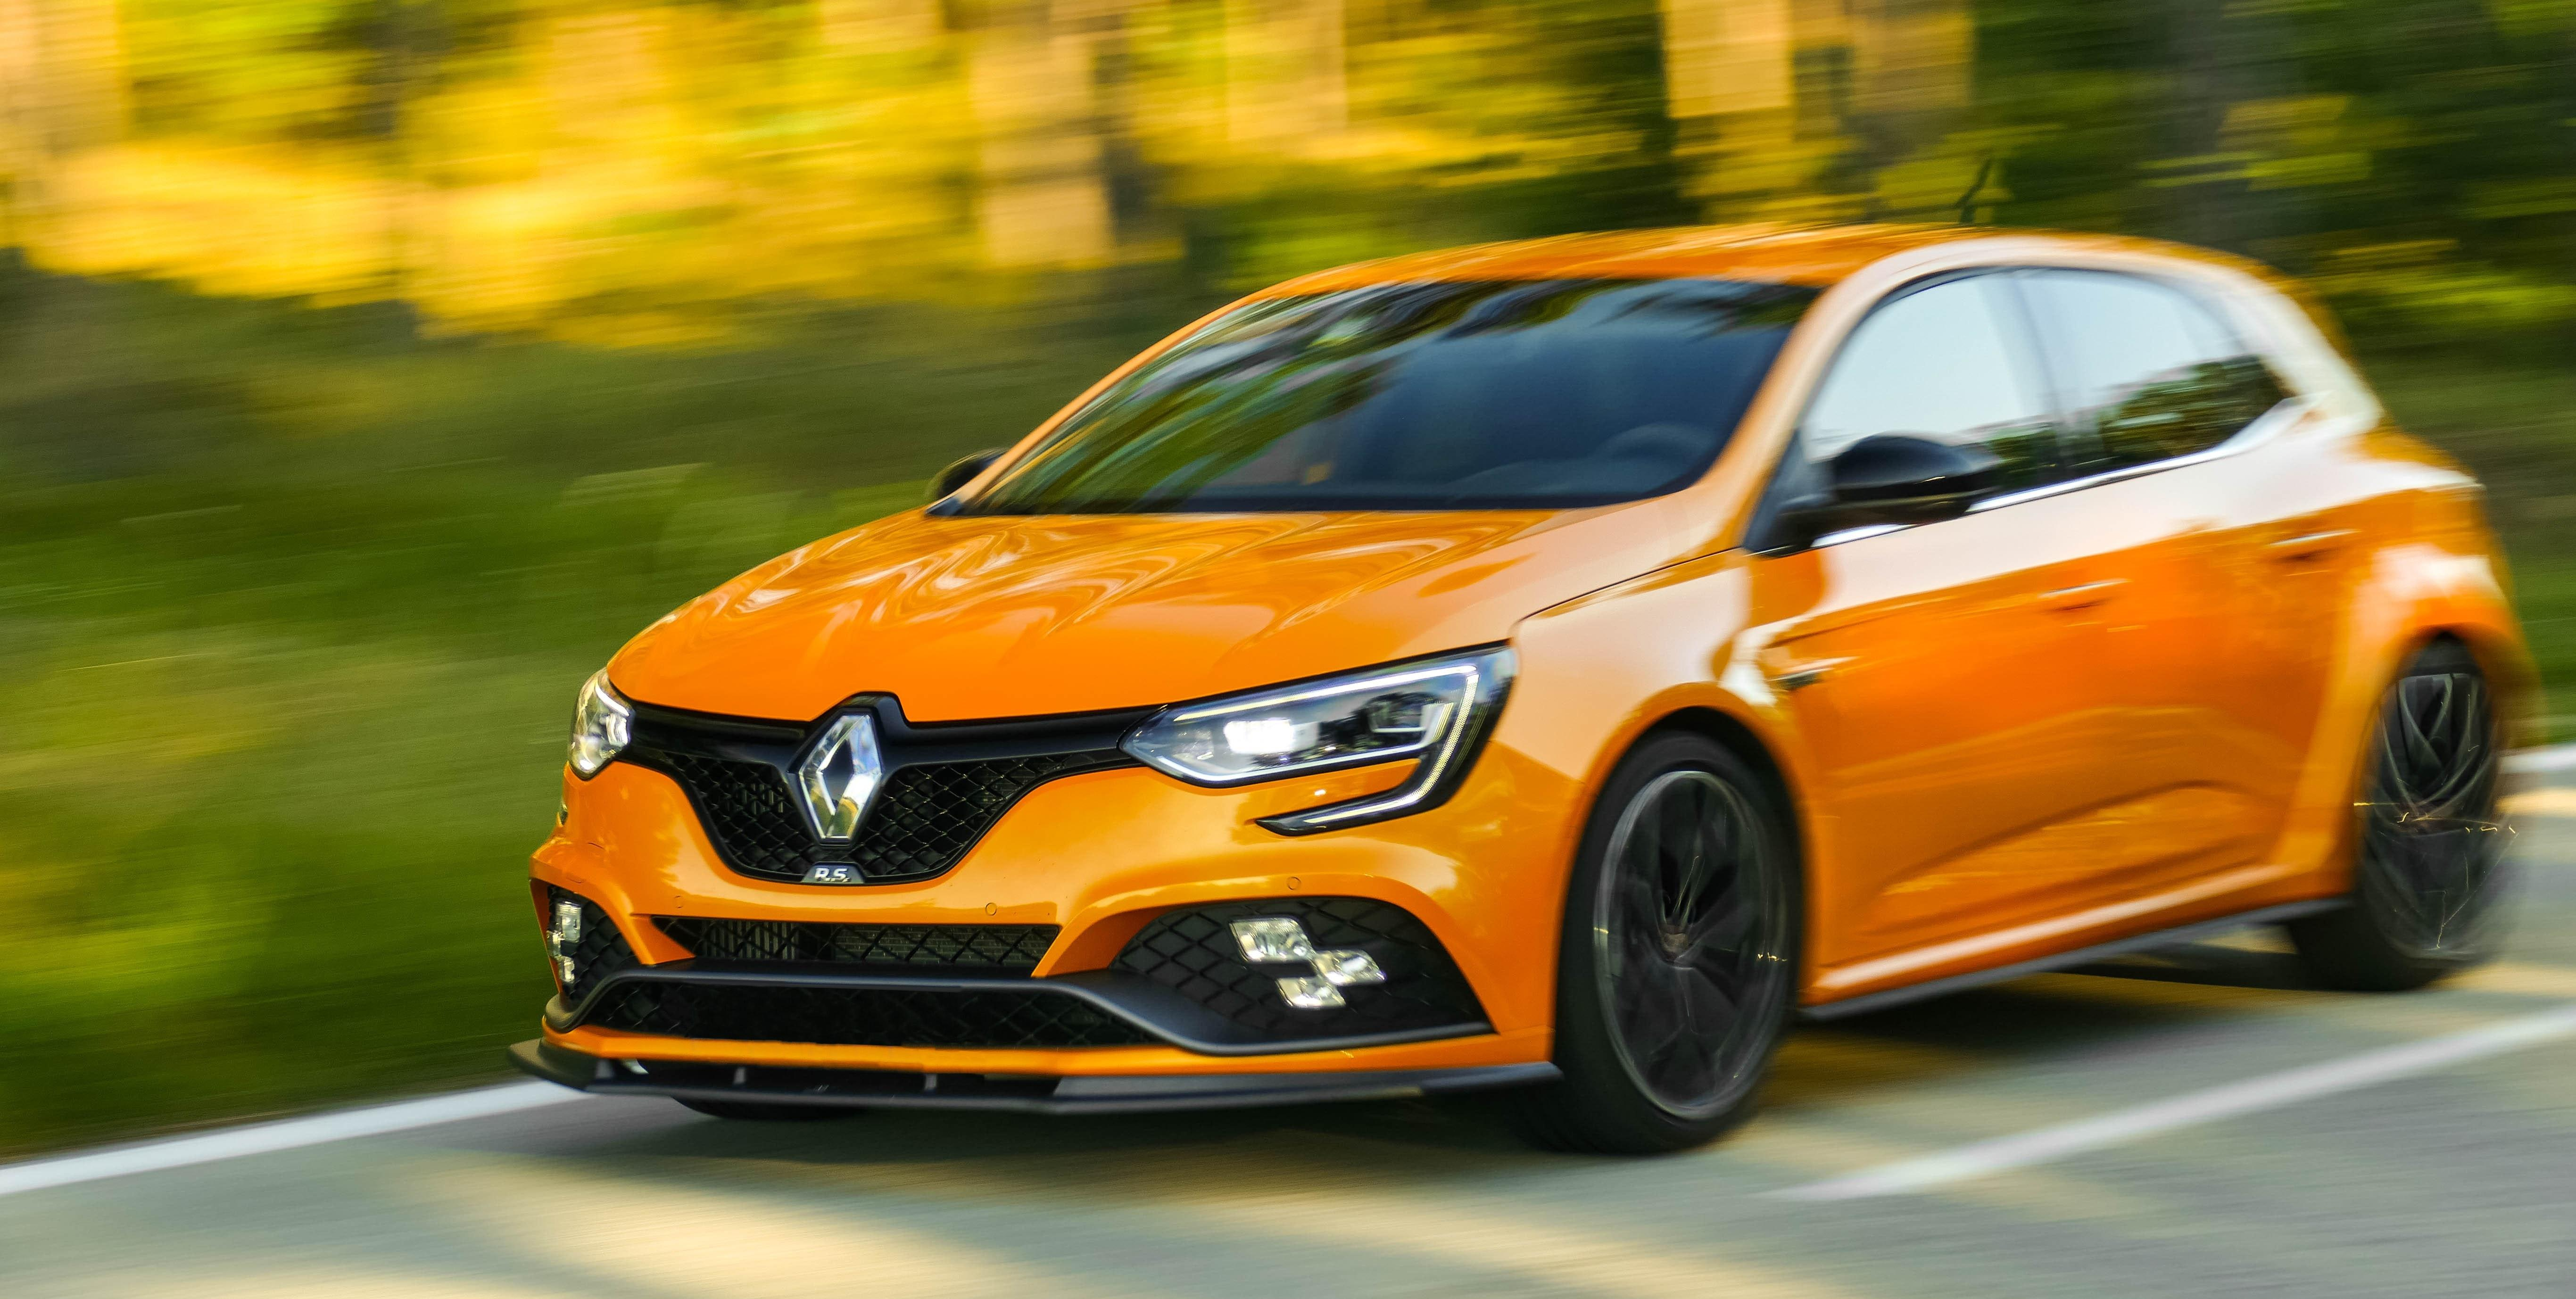Renault: (782, 691, 919, 858)
